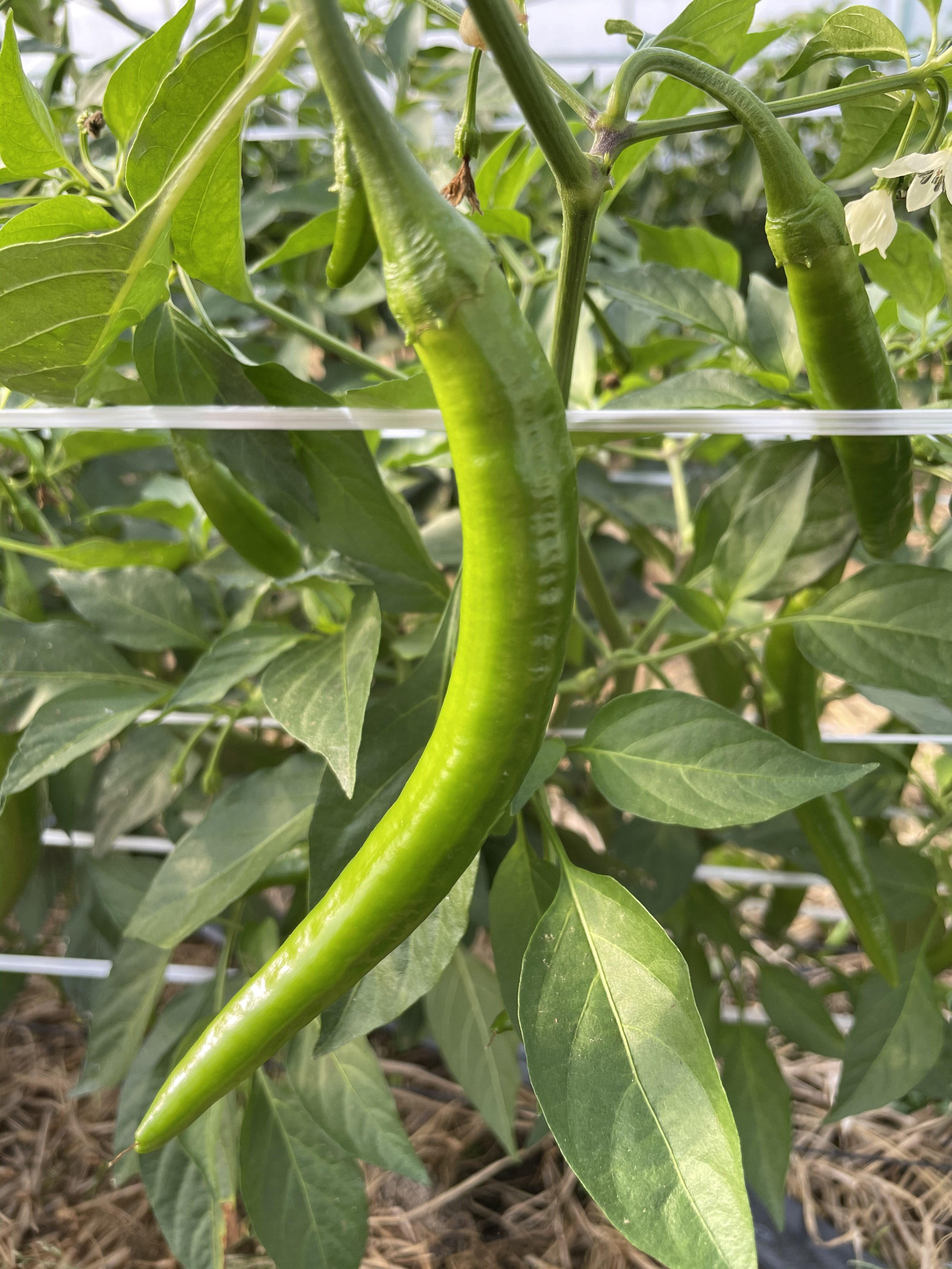Buah Cabai Sehat: (125, 178, 581, 1160), (761, 182, 915, 564)
Daun Cabai Sehat: (513, 867, 761, 1269), (577, 684, 886, 835)
